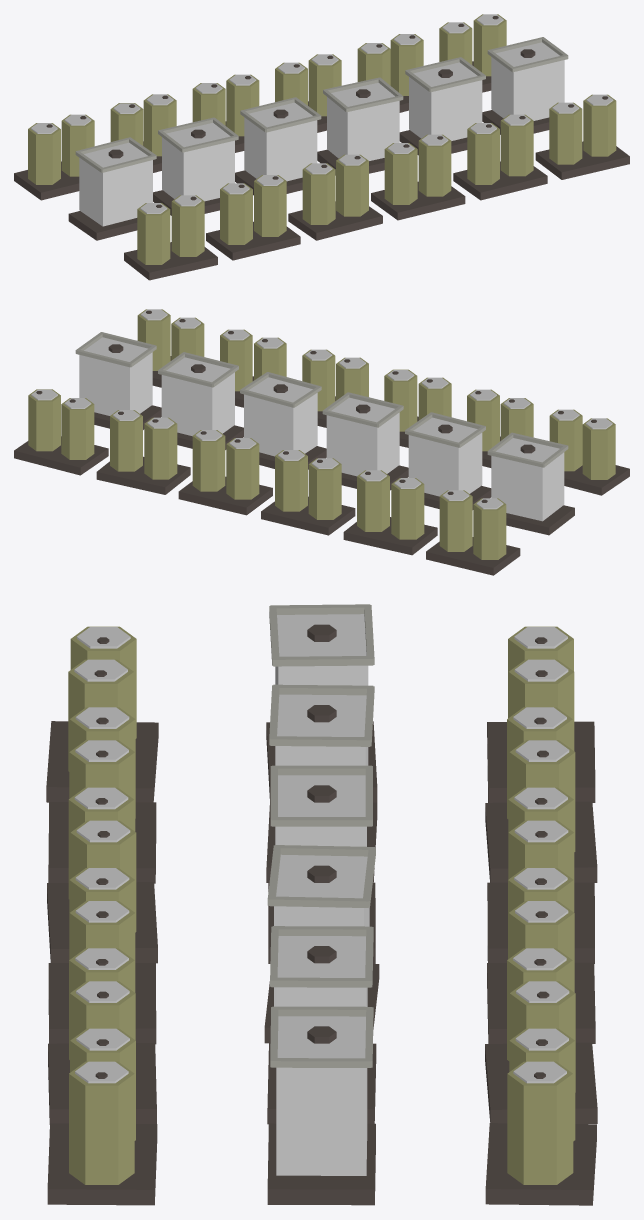
The model's file is SM_AcopioCombustible_v0_Lleno_LOD1.fbx.
3 renders of one model, top to bottom at view 1: azimuth 30°, elevation 25°; view 2: azimuth 150°, elevation 25°; view 3: azimuth 270°, elevation 25°, orthographic. The views are drawn at different scales.
Parts seen in each view (by area): view 1: SM_acopio_carga_v5_LOD1; view 2: SM_acopio_carga_v5_LOD1; view 3: SM_acopio_carga_v5_LOD1.
Part boxes in pixels (x1,y1,x2,y2): SM_acopio_carga_v5_LOD1: [14, 14, 629, 280]; SM_acopio_carga_v5_LOD1: [14, 309, 629, 575]; SM_acopio_carga_v5_LOD1: [46, 604, 597, 1205].
Bounding box in the file's own units: 9.1 × 1.27 × 4.52.
